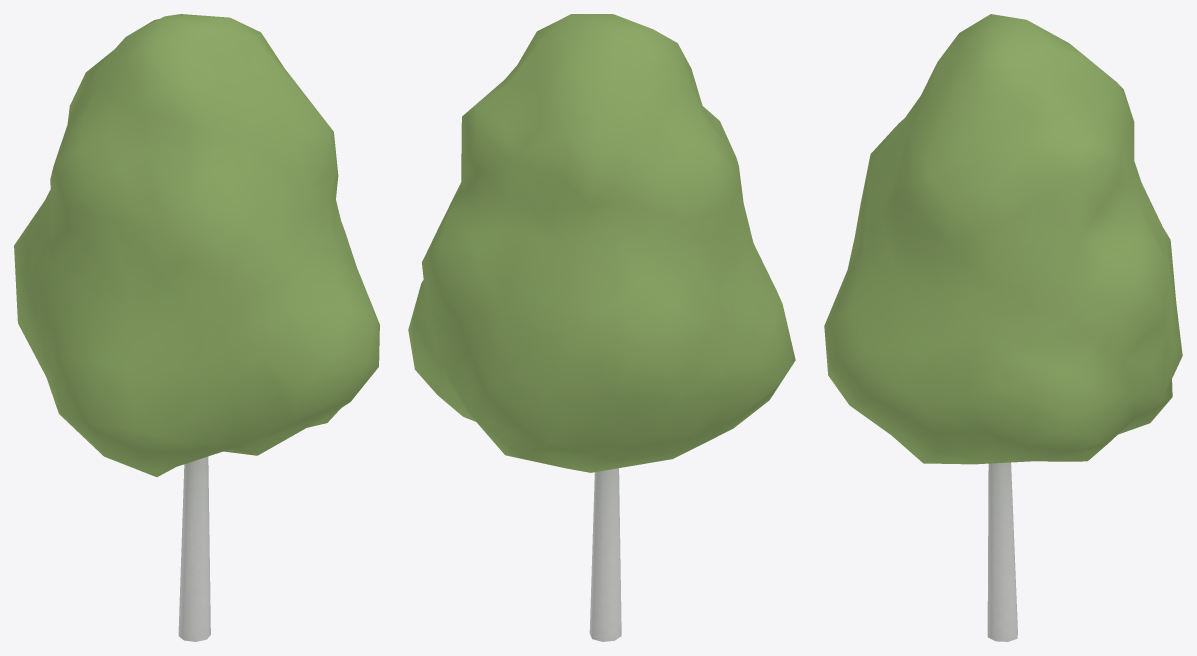
File: birch.glb
The picture shows the model from 3 angles, left to right: view 1: azimuth 30°, elevation 25°; view 2: azimuth 150°, elevation 25°; view 3: azimuth 270°, elevation 25°; orthographic projection.
Visible parts, largest first — view 1: Berez.; view 2: Berez.; view 3: Berez..
Boxes of the visible parts, box(x1,y1,x2,y2) form: Berez.: box(14, 14, 379, 641); Berez.: box(408, 14, 795, 641); Berez.: box(824, 14, 1182, 641).
Size of the model in its own units: 10.44 by 19.28 by 10.31.
Materials: 1 (1 with a texture image).
